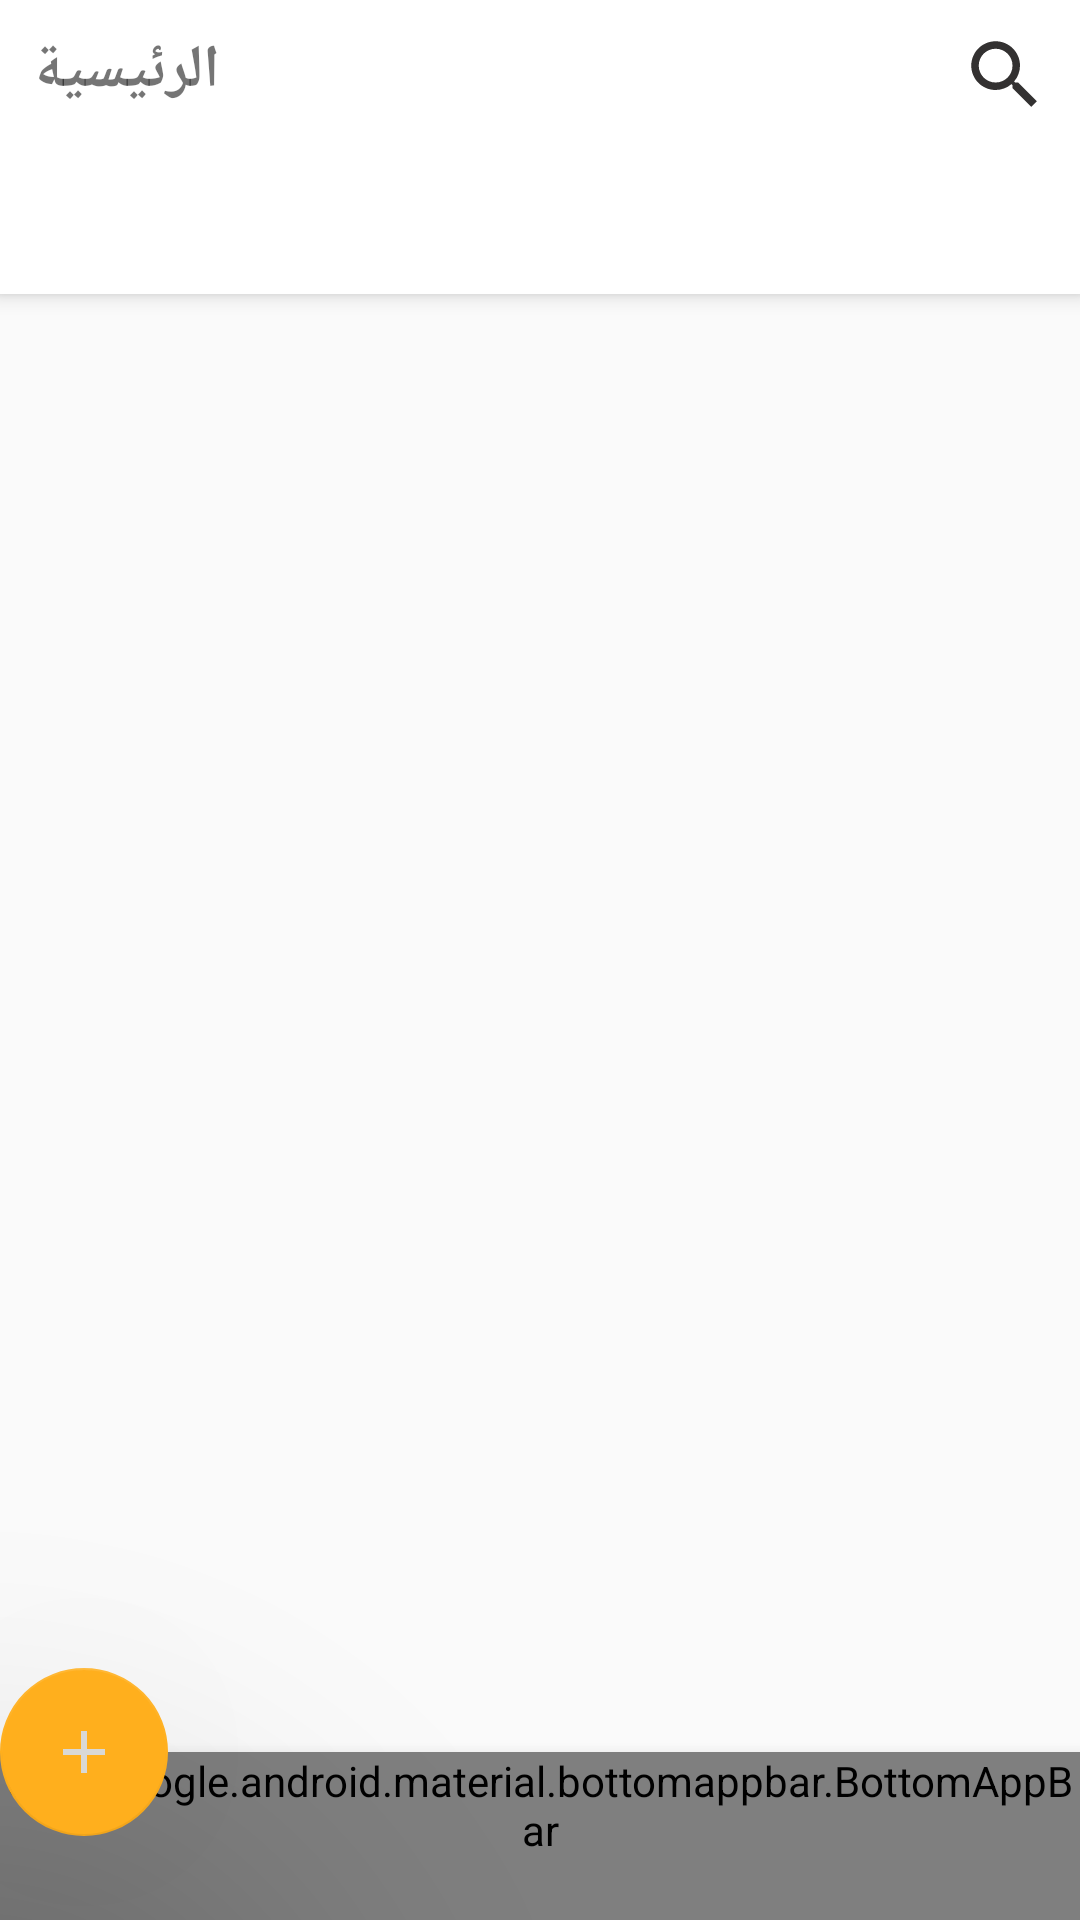

Point at icon controls on the screen. Image size 1080px x 1920px, points as (x=x, y=y).
add: (x=84, y=1752)
search: (x=1004, y=74)
